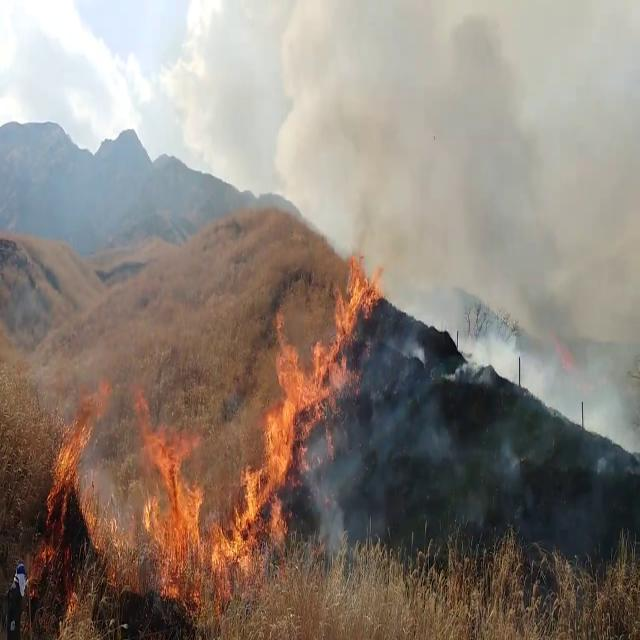Fire: (238, 305, 332, 557), (131, 399, 212, 597), (325, 242, 377, 409)
Smoke: (372, 0, 618, 425)
